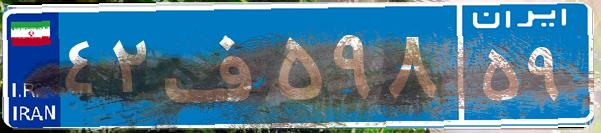2: (110, 28, 158, 105)
4: (57, 26, 110, 107)
5: (273, 28, 330, 110), (475, 38, 525, 113)
8: (385, 28, 445, 110)
9: (330, 28, 385, 110), (525, 38, 570, 115)
ف: (158, 15, 273, 115)
